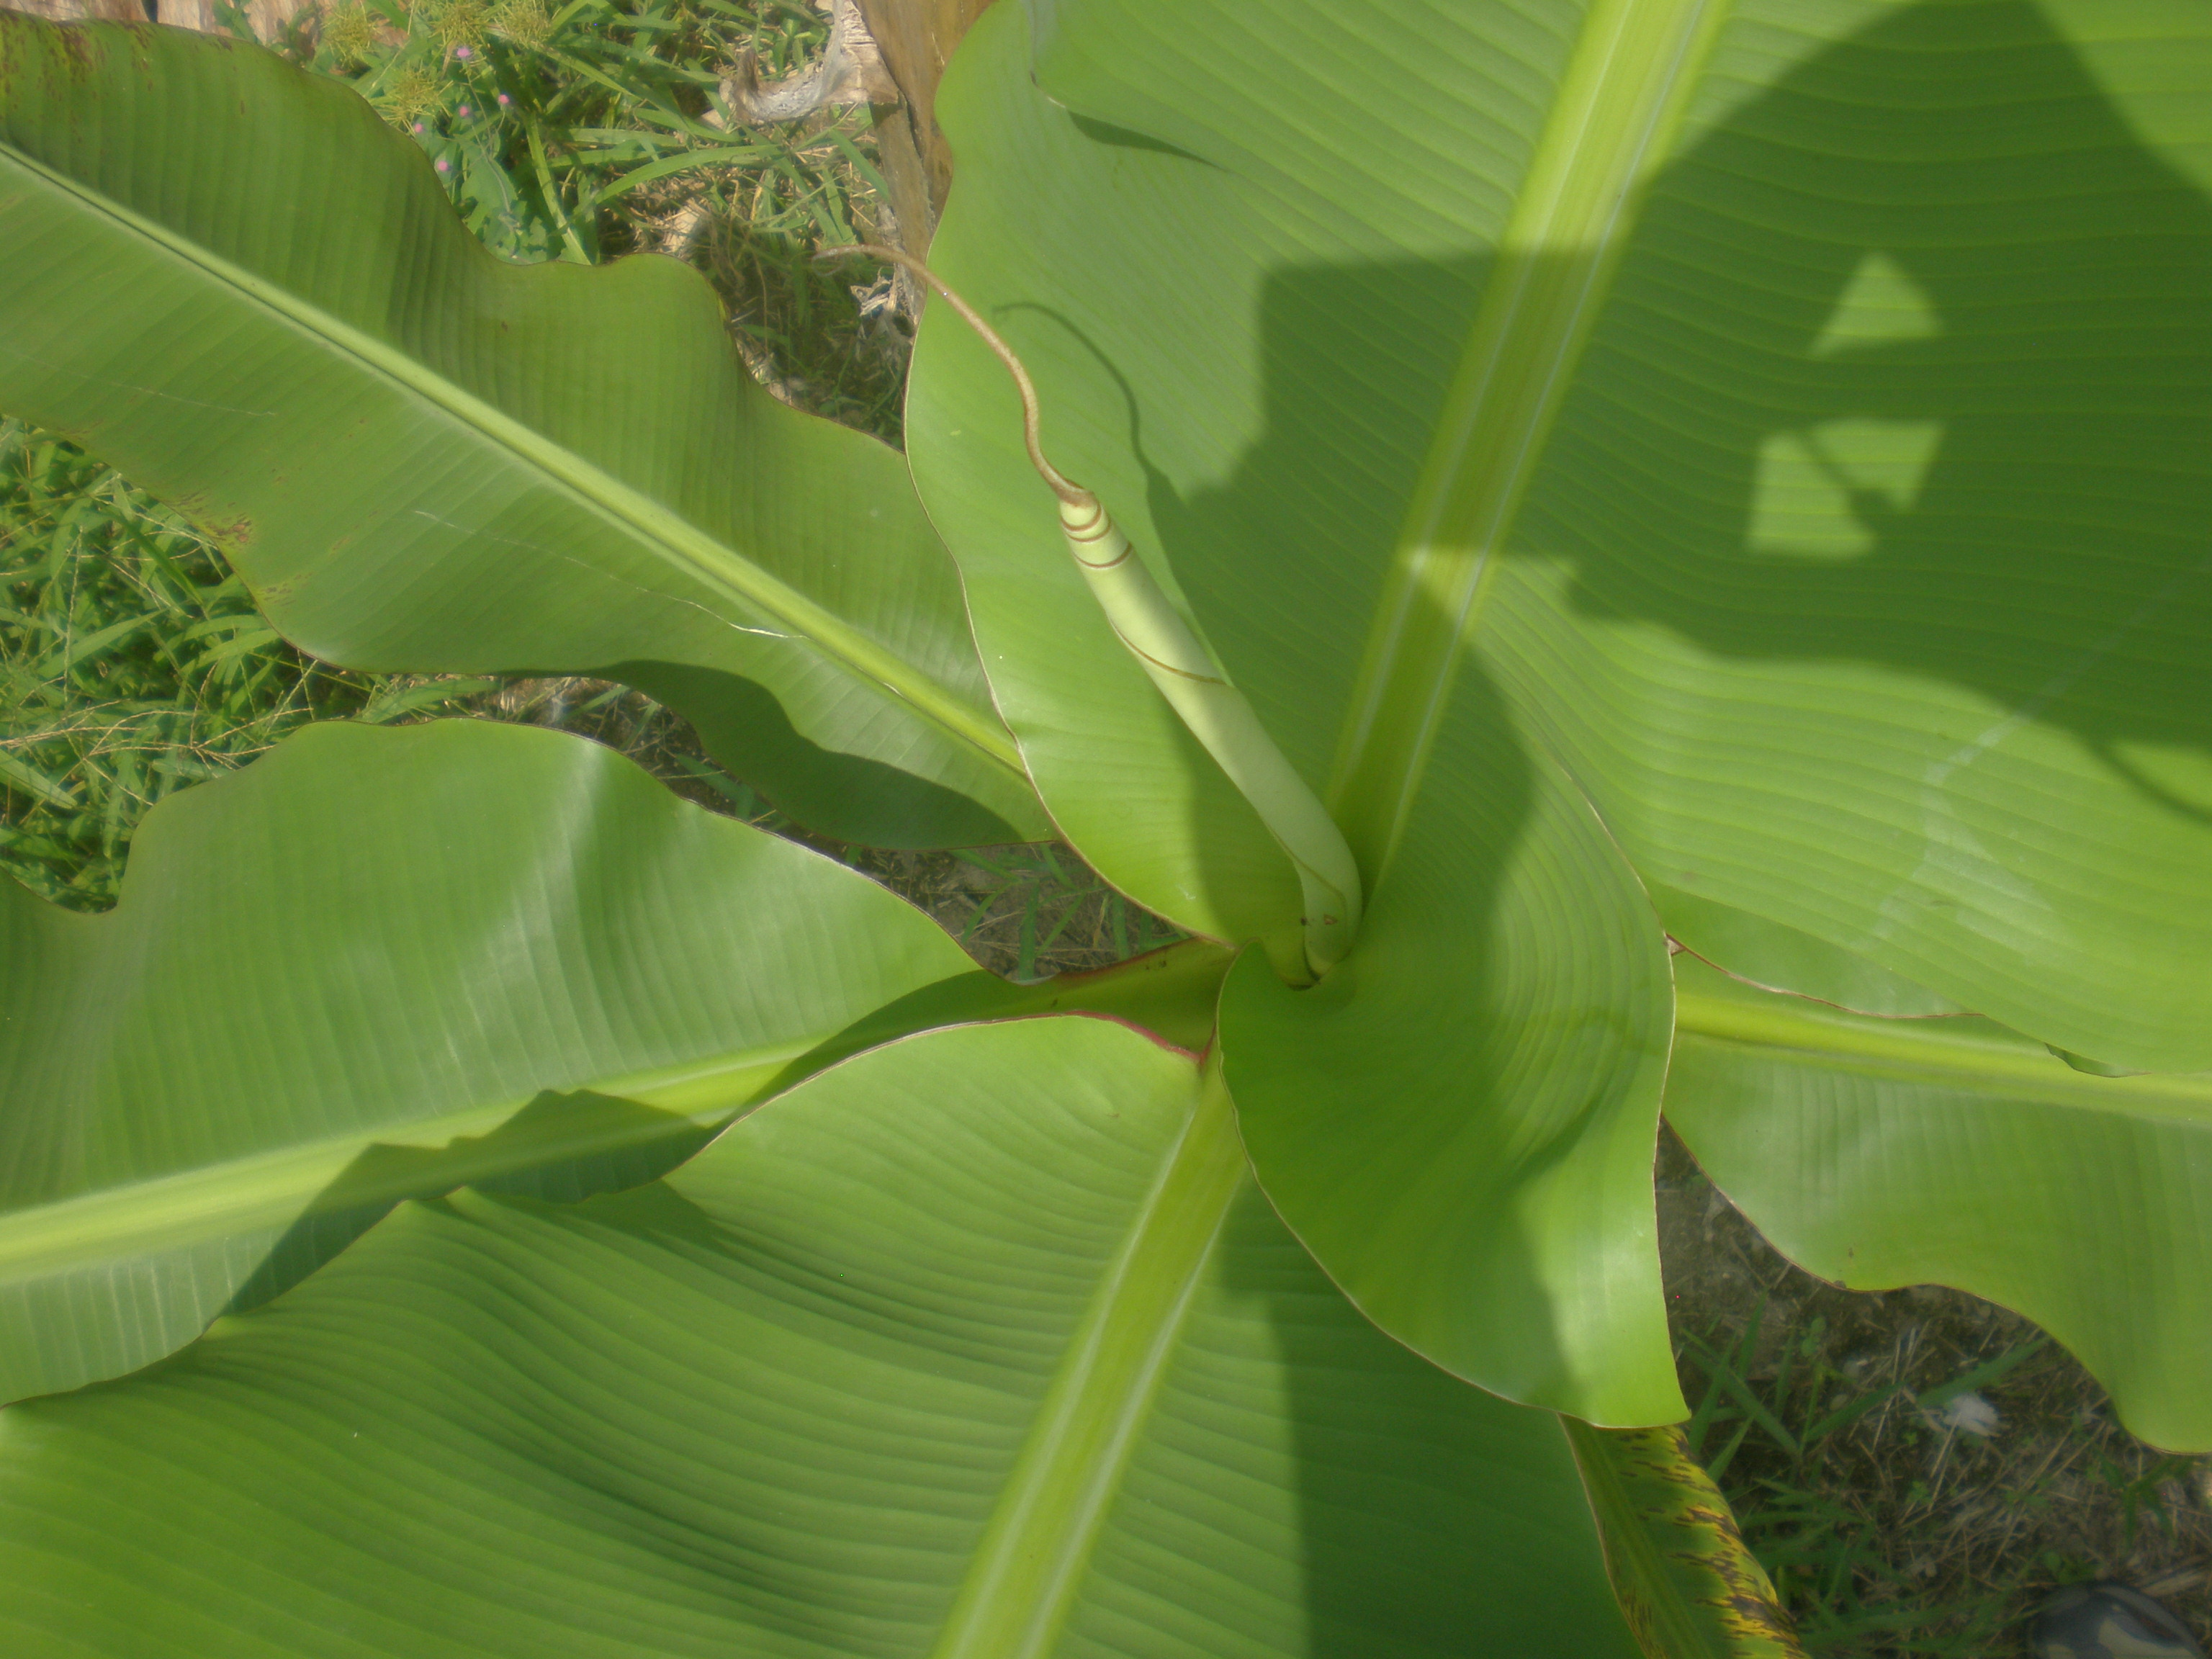candleleafs: (826, 237, 1369, 974)
